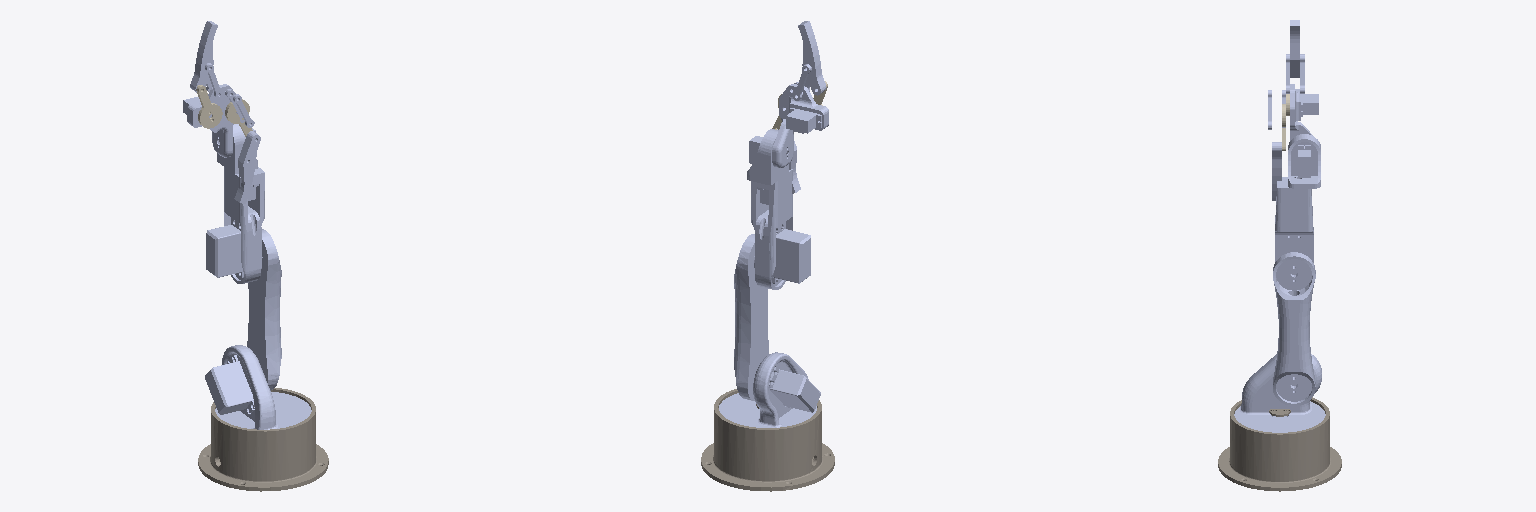
robot.urdf — robot_arm:
<?xml version="1.0" encoding="utf-8"?>
<!-- This URDF was automatically created by SolidWorks to URDF Exporter! Originally created by [author] ([email redacted]) 
     Commit Version: 1.6.0-4-g7f85cfe  Build Version: 1.6.7995.38578
     For more information, please see http://wiki.ros.org/sw_urdf_exporter -->
<robot
  name="robot_arm">
  <link
    name="base_link">
    <inertial>
      <origin
        xyz="0.0025107 2.5745E-07 0.014365"
        rpy="0 0 0" />
      <mass
        value="0.13062" />
      <inertia
        ixx="0.00013435"
        ixy="1.3434E-09"
        ixz="-2.1737E-06"
        iyy="0.00013984"
        iyz="6.6089E-10"
        izz="0.00020719" />
    </inertial>
    <visual>
      <origin
        xyz="0 0 0"
        rpy="0 0 0" />
      <geometry>
        <mesh
          filename="package://robot_arm/meshes/base_link.STL" />
      </geometry>
      <material
        name="">
        <color
          rgba="0.64706 0.61961 0.58824 1" />
      </material>
    </visual>
    <collision>
      <origin
        xyz="0 0 0"
        rpy="0 0 0" />
      <geometry>
        <mesh
          filename="package://robot_arm/meshes/base_link.STL" />
      </geometry>
    </collision>
  </link>
  <link
    name="link1">
    <inertial>
      <origin
        xyz="-0.013889 0.0031829 0.023743"
        rpy="0 0 0" />
      <mass
        value="0.10712" />
      <inertia
        ixx="7.3474E-05"
        ixy="2.0176E-08"
        ixz="6.1163E-06"
        iyy="5.7803E-05"
        iyz="-8.5396E-06"
        izz="6.7542E-05" />
    </inertial>
    <visual>
      <origin
        xyz="0 0 0"
        rpy="0 0 0" />
      <geometry>
        <mesh
          filename="package://robot_arm/meshes/link1.STL" />
      </geometry>
      <material
        name="">
        <color
          rgba="0.79216 0.81961 0.93333 1" />
      </material>
    </visual>
    <collision>
      <origin
        xyz="0 0 0"
        rpy="0 0 0" />
      <geometry>
        <mesh
          filename="package://robot_arm/meshes/link1.STL" />
      </geometry>
    </collision>
  </link>
  <joint
    name="joint1"
    type="revolute">
    <origin
      xyz="0 0 0.0494"
      rpy="0 0 0" />
    <parent
      link="base_link" />
    <child
      link="link1" />
    <axis
      xyz="0 0 1" />
    <limit
      lower="-2.09"
      upper="2.09"
      effort="1.96"
      velocity="3.14" />
  </joint>
  <link
    name="link2">
    <inertial>
      <origin
        xyz="8.5659E-08 0.059964 0.0078473"
        rpy="0 0 0" />
      <mass
        value="0.064838" />
      <inertia
        ixx="0.00010586"
        ixy="4.5428E-10"
        ixz="9.5397E-12"
        iyy="9.4488E-06"
        iyz="2.4801E-09"
        izz="0.00011087" />
    </inertial>
    <visual>
      <origin
        xyz="0 0 0"
        rpy="0 0 0" />
      <geometry>
        <mesh
          filename="package://robot_arm/meshes/link2.STL" />
      </geometry>
      <material
        name="">
        <color
          rgba="0.79216 0.81961 0.93333 1" />
      </material>
    </visual>
    <collision>
      <origin
        xyz="0 0 0"
        rpy="0 0 0" />
      <geometry>
        <mesh
          filename="package://robot_arm/meshes/link2.STL" />
      </geometry>
    </collision>
  </link>
  <joint
    name="joint2"
    type="revolute">
    <origin
      xyz="0.001 0.01391 0.04028"
      rpy="1.5708 0 1.5708" />
    <parent
      link="link1" />
    <child
      link="link2" />
    <axis
      xyz="0 0 1" />
    <limit
      lower="-1.57"
      upper="1.57"
      effort="1.96"
      velocity="3.14" />
  </joint>
  <link
    name="link3">
    <inertial>
      <origin
        xyz="1.6318E-05 -0.031392 0.019078"
        rpy="0 0 0" />
      <mass
        value="0.090982" />
      <inertia
        ixx="6.557E-05"
        ixy="-3.4803E-08"
        ixz="5.9501E-10"
        iyy="1.5641E-05"
        iyz="6.4756E-07"
        izz="6.5685E-05" />
    </inertial>
    <visual>
      <origin
        xyz="0 0 0"
        rpy="0 0 0" />
      <geometry>
        <mesh
          filename="package://robot_arm/meshes/link3.STL" />
      </geometry>
      <material
        name="">
        <color
          rgba="0.79216 0.81961 0.93333 1" />
      </material>
    </visual>
    <collision>
      <origin
        xyz="0 0 0"
        rpy="0 0 0" />
      <geometry>
        <mesh
          filename="package://robot_arm/meshes/link3.STL" />
      </geometry>
    </collision>
  </link>
  <joint
    name="joint3"
    type="revolute">
    <origin
      xyz="0 0.12 0"
      rpy="-3.1416 0 0" />
    <parent
      link="link2" />
    <child
      link="link3" />
    <axis
      xyz="0 0 1" />
    <limit
      lower="-2.09"
      upper="2.09"
      effort="1.96"
      velocity="3.14" />
  </joint>
  <link
    name="link4">
    <inertial>
      <origin
        xyz="0.0050325 0.0031741 0.017549"
        rpy="0 0 0" />
      <mass
        value="0.023188" />
      <inertia
        ixx="4.4549E-06"
        ixy="4.1467E-09"
        ixz="1.1497E-08"
        iyy="5.245E-06"
        iyz="-6.2983E-07"
        izz="2.9434E-06" />
    </inertial>
    <visual>
      <origin
        xyz="0 0 0"
        rpy="0 0 0" />
      <geometry>
        <mesh
          filename="package://robot_arm/meshes/link4.STL" />
      </geometry>
      <material
        name="">
        <color
          rgba="0.79216 0.81961 0.93333 1" />
      </material>
    </visual>
    <collision>
      <origin
        xyz="0 0 0"
        rpy="0 0 0" />
      <geometry>
        <mesh
          filename="package://robot_arm/meshes/link4.STL" />
      </geometry>
    </collision>
  </link>
  <joint
    name="joint4"
    type="revolute">
    <origin
      xyz="0.0051 -0.0916 0.0135"
      rpy="1.5708 0 0" />
    <parent
      link="link3" />
    <child
      link="link4" />
    <axis
      xyz="0 0 1" />
    <limit
      lower="-2.09"
      upper="2.09"
      effort="1.96"
      velocity="3.14" />
  </joint>
  <link
    name="link5">
    <inertial>
      <origin
        xyz="0.00382924734836193 0.0292405343212404 0.0147859518518059"
        rpy="0 0 0" />
      <mass
        value="0.0225683765881369" />
      <inertia
        ixx="8.83963263986709E-06"
        ixy="-1.28322418570414E-06"
        ixz="-3.58450440375711E-07"
        iyy="3.63520705800952E-06"
        iyz="-1.63730559254101E-06"
        izz="7.38356194215692E-06" />
    </inertial>
    <visual>
      <origin
        xyz="0 0 0"
        rpy="0 0 0" />
      <geometry>
        <mesh
          filename="package://robot_arm/meshes/link5.STL" />
      </geometry>
      <material
        name="">
        <color
          rgba="0.792156862745098 0.819607843137255 0.933333333333333 1" />
      </material>
    </visual>
    <collision>
      <origin
        xyz="0 0 0"
        rpy="0 0 0" />
      <geometry>
        <mesh
          filename="package://robot_arm/meshes/link5.STL" />
      </geometry>
    </collision>
  </link>
  <joint
    name="joint5"
    type="revolute">
    <origin
      xyz="0.005 0.01535 0.02625"
      rpy="1.5708 0 -3.1416" />
    <parent
      link="link4" />
    <child
      link="link5" />
    <axis
      xyz="0 0 1" />
    <limit
      lower="-2.09"
      upper="2.09"
      effort="1.96"
      velocity="3.14" />
  </joint>
  <link
    name="link6_left">
    <inertial>
      <origin
        xyz="0.00606767082237808 0.00200783995073988 -0.00200000001662691"
        rpy="0 0 0" />
      <mass
        value="0.00240579375710288" />
      <inertia
        ixx="1.00721310971705E-07"
        ixy="-8.05001158171013E-08"
        ixz="4.70370703065413E-18"
        iyy="3.17353677826403E-07"
        iyz="1.37078588865237E-17"
        izz="4.11659538779167E-07" />
    </inertial>
    <visual>
      <origin
        xyz="0 0 0"
        rpy="0 0 0" />
      <geometry>
        <mesh
          filename="package://robot_arm/meshes/link6_left.STL" />
      </geometry>
      <material
        name="">
        <color
          rgba="0.843137254901961 0.815686274509804 0.752941176470588 1" />
      </material>
    </visual>
    <collision>
      <origin
        xyz="0 0 0"
        rpy="0 0 0" />
      <geometry>
        <mesh
          filename="package://robot_arm/meshes/link6_left.STL" />
      </geometry>
    </collision>
  </link>
  <joint
    name="joint6_left"
    type="revolute">
    <origin
      xyz="0.018 0.038 0.02455"
      rpy="1.5708 0 1.5708" />
    <parent
      link="link5" />
    <child
      link="link6_left" />
    <axis
      xyz="0 0 1" />
    <limit
      lower="-0.628"
      upper="6.28"
      effort="1.96"
      velocity="3.14" />
  </joint>
  <link
    name="link7_left">
    <inertial>
      <origin
        xyz="-0.00734519517731914 0.0265831010155482 0.00500000002280107"
        rpy="0 0 0" />
      <mass
        value="0.0064459935128382" />
      <inertia
        ixx="2.07296523349927E-06"
        ixy="4.22581244927909E-07"
        ixz="-2.95683468699281E-17"
        iyy="2.09543211765178E-07"
        iyz="1.28628264267561E-16"
        izz="2.17507522005048E-06" />
    </inertial>
    <visual>
      <origin
        xyz="0 0 0"
        rpy="0 0 0" />
      <geometry>
        <mesh
          filename="package://robot_arm/meshes/link7_left.STL" />
      </geometry>
      <material
        name="">
        <color
          rgba="0.792156862745098 0.819607843137255 0.933333333333333 1" />
      </material>
    </visual>
    <collision>
      <origin
        xyz="0 0 0"
        rpy="0 0 0" />
      <geometry>
        <mesh
          filename="package://robot_arm/meshes/link7_left.STL" />
      </geometry>
    </collision>
  </link>
  <joint
    name="joint7_left"
    type="continuous">
    <origin
      xyz="0.029193 0.0096603 -0.004"
      rpy="3.1416 0 1.5708" />
    <parent
      link="link6_left" />
    <child
      link="link7_left" />
    <axis
      xyz="0 0 1" />
    <mimic
      joint="joint6_left"
      multiplier="1"
      offset="0" />
  </joint>
  <link
    name="link8_left">
    <inertial>
      <origin
        xyz="0.0146971742805259 0.00492372504340641 -0.00900000002019757"
        rpy="0 0 0" />
      <mass
        value="0.00159752482636938" />
      <inertia
        ixx="2.7303102737423E-08"
        ixy="-5.98131214434453E-08"
        ixz="4.92452452847807E-18"
        iyy="1.85805414785436E-07"
        iyz="2.18973473273421E-18"
        izz="2.08848451319207E-07" />
    </inertial>
    <visual>
      <origin
        xyz="0 0 0"
        rpy="0 0 0" />
      <geometry>
        <mesh
          filename="package://robot_arm/meshes/link8_left.STL" />
      </geometry>
      <material
        name="">
        <color
          rgba="0.792156862745098 0.819607843137255 0.933333333333333 1" />
      </material>
    </visual>
    <collision>
      <origin
        xyz="0 0 0"
        rpy="0 0 0" />
      <geometry>
        <mesh
          filename="package://robot_arm/meshes/link8_left.STL" />
      </geometry>
    </collision>
  </link>
  <joint
    name="joint8_left"
    type="continuous">
    <origin
      xyz="0.018 0.058 0.01565"
      rpy="1.5708 0 1.5708" />
    <parent
      link="link5" />
    <child
      link="link8_left" />
    <axis
      xyz="0 0 1" />
    <mimic
      joint="joint6_left"
      multiplier="1"
      offset="0" />
  </joint>
  <link
    name="link9_right">
    <inertial>
      <origin
        xyz="-0.00277730044409414 0.00575627072829776 0.0020000000115335"
        rpy="0 0 0" />
      <mass
        value="0.00240579375710288" />
      <inertia
        ixx="2.93024556974838E-07"
        ixy="1.05635399174356E-07"
        ixz="-2.32223340192349E-17"
        iyy="1.25050431823272E-07"
        iyz="2.62403805580379E-17"
        izz="4.11659538779168E-07" />
    </inertial>
    <visual>
      <origin
        xyz="0 0 0"
        rpy="0 0 0" />
      <geometry>
        <mesh
          filename="package://robot_arm/meshes/link9_right.STL" />
      </geometry>
      <material
        name="">
        <color
          rgba="0.843137254901961 0.815686274509804 0.752941176470588 1" />
      </material>
    </visual>
    <collision>
      <origin
        xyz="0 0 0"
        rpy="0 0 0" />
      <geometry>
        <mesh
          filename="package://robot_arm/meshes/link9_right.STL" />
      </geometry>
    </collision>
  </link>
  <joint
    name="joint9_right"
    type="continuous">
    <origin
      xyz="0.018 0.038 -0.00235"
      rpy="3.1416 -1.5708 0" />
    <parent
      link="link5" />
    <child
      link="link9_right" />
    <axis
      xyz="0 0 1" />
    <mimic
      joint="joint6_left"
      multiplier="1"
      offset="0" />
  </joint>
  <link
    name="link10_right">
    <inertial>
      <origin
        xyz="0.0267439601043644 0.00673600396655637 -0.00500000001799825"
        rpy="0 0 0" />
      <mass
        value="0.0064459935128382" />
      <inertia
        ixx="1.91213496794507E-07"
        ixy="-3.79582580718992E-07"
        ixz="7.22249962414533E-18"
        iyy="2.09129494847001E-06"
        iyz="3.27662653427592E-18"
        izz="2.17507522005054E-06" />
    </inertial>
    <visual>
      <origin
        xyz="0 0 0"
        rpy="0 0 0" />
      <geometry>
        <mesh
          filename="package://robot_arm/meshes/link10_right.STL" />
      </geometry>
      <material
        name="">
        <color
          rgba="0.792156862745098 0.819607843137255 0.933333333333333 1" />
      </material>
    </visual>
    <collision>
      <origin
        xyz="0 0 0"
        rpy="0 0 0" />
      <geometry>
        <mesh
          filename="package://robot_arm/meshes/link10_right.STL" />
      </geometry>
    </collision>
  </link>
  <joint
    name="joint10_right"
    type="continuous">
    <origin
      xyz="-0.013362 0.027695 0.004"
      rpy="3.1416 0 1.5708" />
    <parent
      link="link9_right" />
    <child
      link="link10_right" />
    <axis
      xyz="0 0 1" />
    <mimic
      joint="joint6_left"
      multiplier="1"
      offset="0" />
  </joint>
  <link
    name="link11_right">
    <inertial>
      <origin
        xyz="-0.00655664333868619 0.0140449431524884 0.00899999999847946"
        rpy="0 0 0" />
      <mass
        value="0.00159752482636938" />
      <inertia
        ixx="1.70310502953805E-07"
        ixy="7.61150218710589E-08"
        ixz="-8.75120327723677E-18"
        iyy="4.27980145690528E-08"
        iyz="1.77383004666499E-17"
        izz="2.08848451319207E-07" />
    </inertial>
    <visual>
      <origin
        xyz="0 0 0"
        rpy="0 0 0" />
      <geometry>
        <mesh
          filename="package://robot_arm/meshes/link11_right.STL" />
      </geometry>
      <material
        name="">
        <color
          rgba="0.792156862745098 0.819607843137255 0.933333333333333 1" />
      </material>
    </visual>
    <collision>
      <origin
        xyz="0 0 0"
        rpy="0 0 0" />
      <geometry>
        <mesh
          filename="package://robot_arm/meshes/link11_right.STL" />
      </geometry>
    </collision>
  </link>
  <joint
    name="joint11_right"
    type="continuous">
    <origin
      xyz="0.018 0.058 0.00565"
      rpy="3.1416 -1.5708 0" />
    <parent
      link="link5" />
    <child
      link="link11_right" />
    <axis
      xyz="0 0 1" />
    <mimic
      joint="joint6_left"
      multiplier="1"
      offset="0" />
  </joint>
</robot>

--- What the picture shows (computed from the rendered views, not written in the file) ---
The picture shows the robot from 3 angles, left to right: view 1: azimuth 30°, elevation 25°; view 2: azimuth 150°, elevation 25°; view 3: azimuth 270°, elevation 25°; orthographic projection.
Model robot_arm with 12 links and 11 joints (6 revolute, 5 continuous), rooted at base_link, posed all joints at 0.
Visible links, largest first — view 1: base_link, link1, link3, link2, link5, link10_right, link7_left, link6_left, link4; view 2: base_link, link3, link1, link2, link5, link4, link7_left; view 3: base_link, link2, link1, link3, link4, link5, link7_left.
Link boxes in pixels (box(x1,y1,x2,y2)): base_link: box(198, 388, 328, 491); link1: box(205, 345, 311, 429); link3: box(206, 167, 264, 283); link2: box(247, 229, 281, 390); link5: box(183, 84, 235, 157); link10_right: box(234, 131, 260, 203); link7_left: box(190, 21, 217, 92); link6_left: box(196, 85, 222, 128); link4: box(217, 124, 257, 173); base_link: box(701, 389, 834, 491); link3: box(751, 169, 810, 289); link1: box(719, 352, 820, 427); link2: box(734, 234, 769, 400); link5: box(772, 84, 828, 167); link4: box(747, 129, 788, 185); link7_left: box(798, 21, 826, 95); base_link: box(1218, 397, 1341, 491); link2: box(1273, 252, 1315, 405); link1: box(1234, 354, 1325, 432); link3: box(1275, 177, 1313, 274); link4: box(1288, 134, 1320, 188); link5: box(1290, 84, 1318, 140); link7_left: box(1290, 20, 1299, 77).
Size in the robot's own frame: 0.1305 by 0.1213 by 0.4574 metres.
Meshes: 12 distinct files referenced, 12 mesh visuals loaded (12 binary STL).